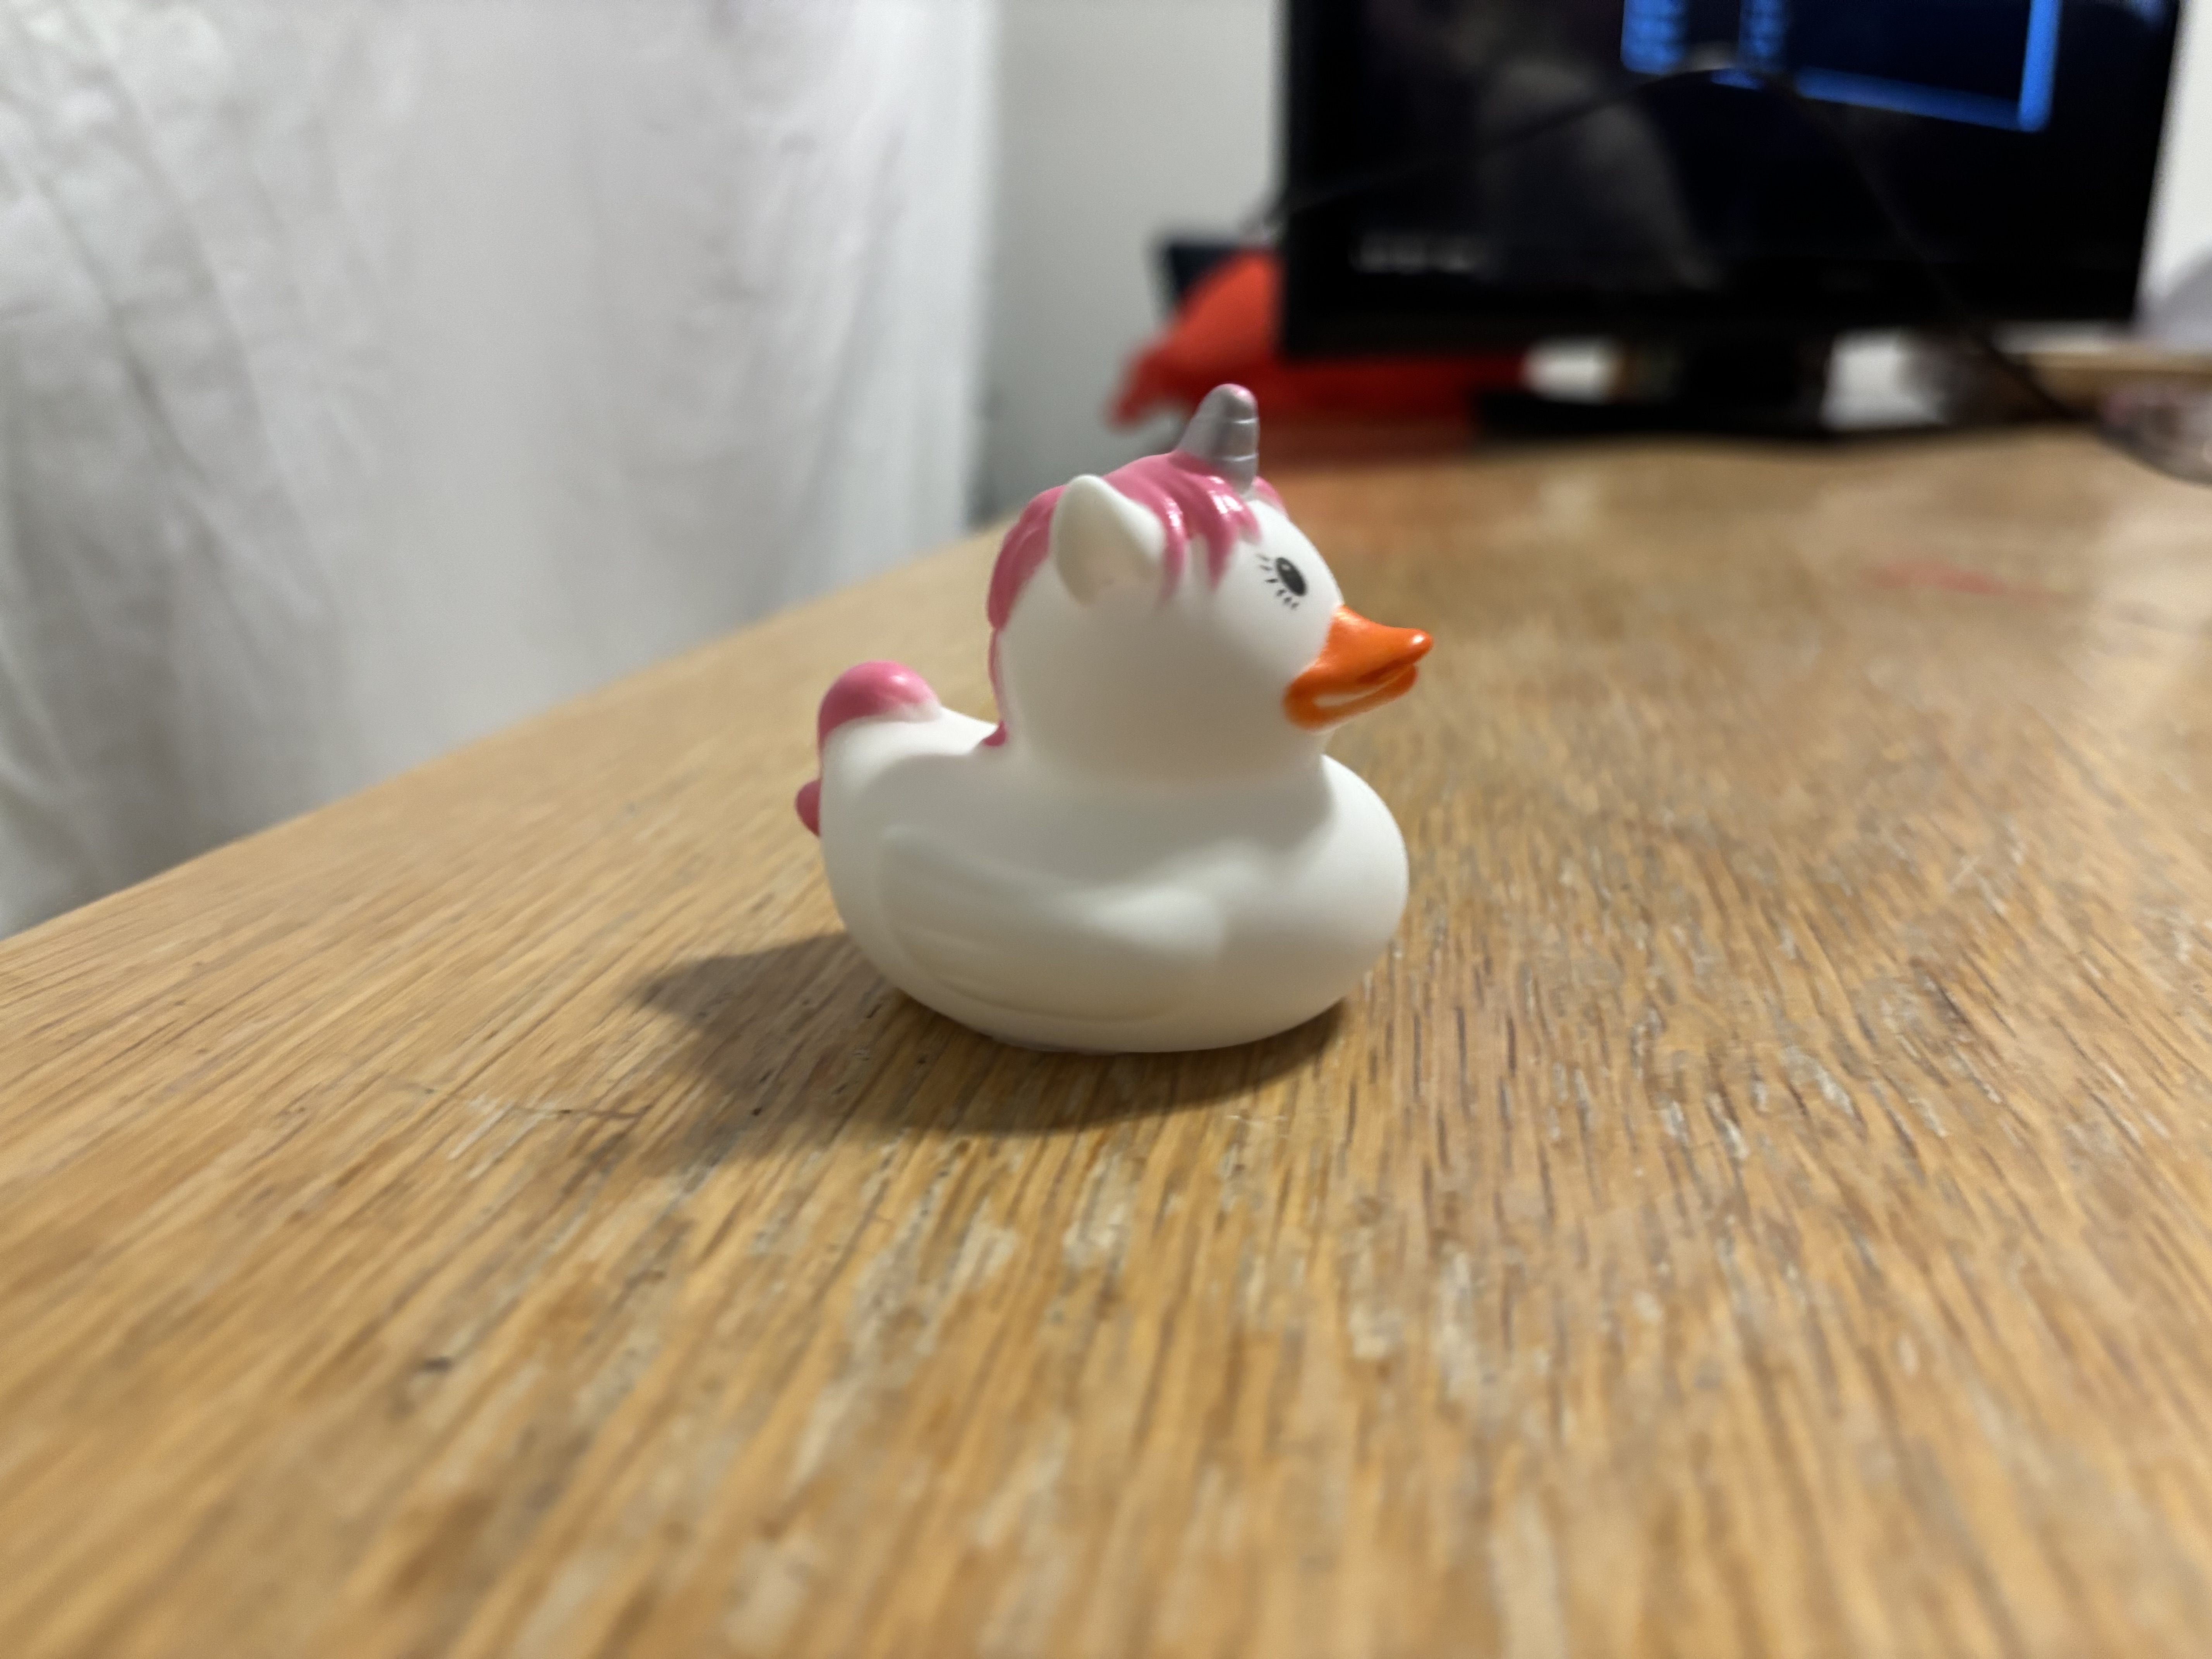Ducks (Specialty): (773, 427, 1421, 1044)
